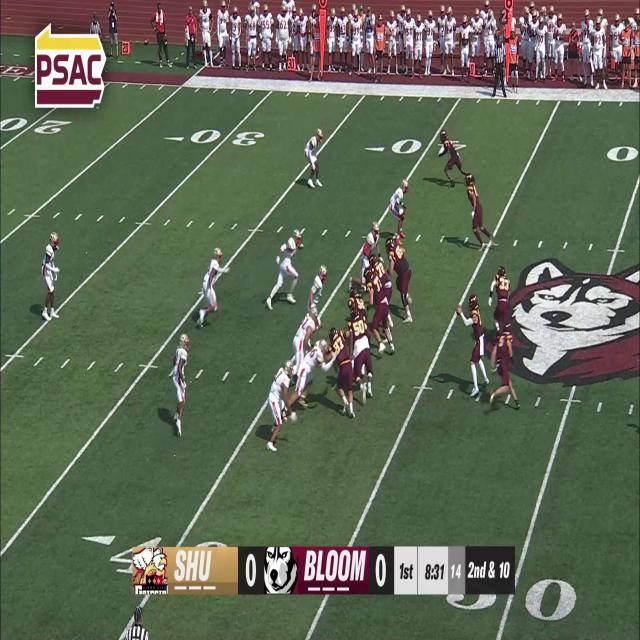football: (454, 304, 462, 318)
